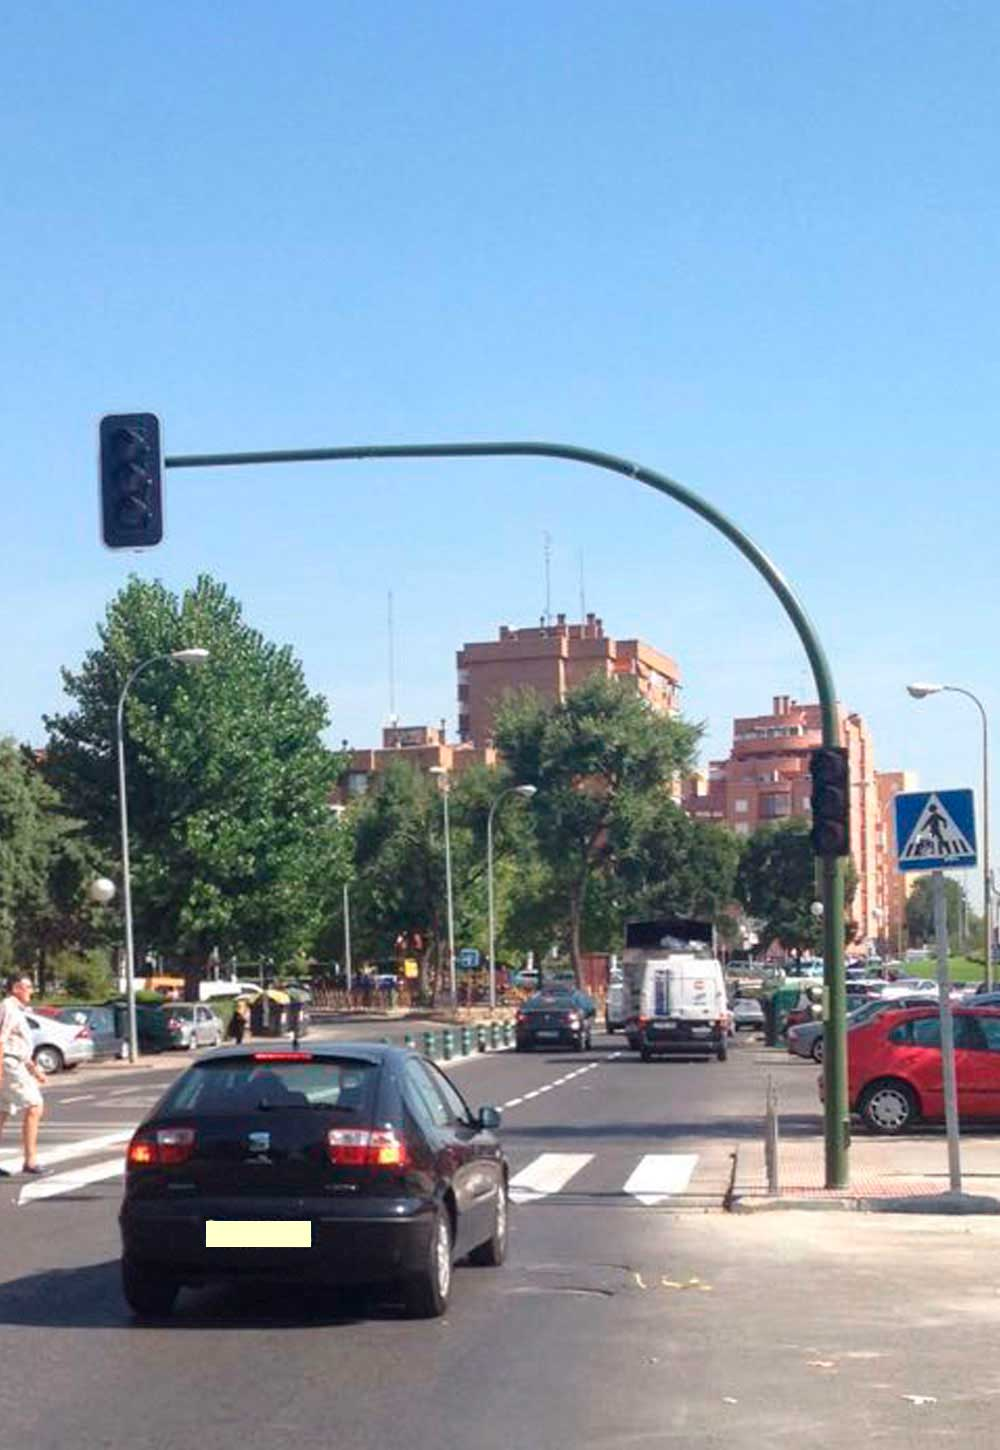Cartel: (886, 786, 981, 873)
Persona: (1, 967, 67, 1184)
Poste: (165, 436, 688, 485), (918, 884, 981, 1199), (811, 858, 864, 1201)
Semaforo: (83, 407, 177, 560), (792, 743, 862, 860)
Vehiculo: (101, 1029, 532, 1338)
